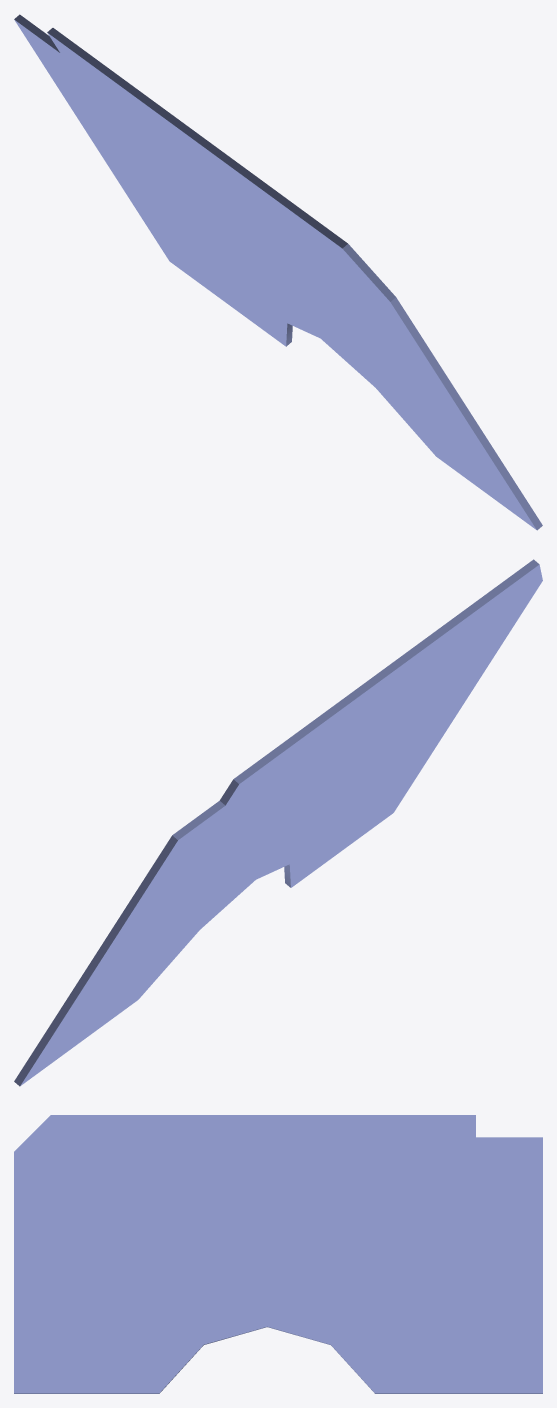
File: Copie de Pale Moulin 4^Copie de ASS Moulin_Horloge Comtoise Verge - Sonnerie.obj
The picture shows the model from 3 angles, top to bottom: view 1: azimuth 30°, elevation 25°; view 2: azimuth 150°, elevation 25°; view 3: azimuth 270°, elevation 25°; orthographic projection. The views are drawn at different scales.
Visible parts, largest first — view 1: Face_1, Face_4, Face_6; view 2: Face_1, Face_4, Face_10; view 3: Face_11.
Boxes of the visible parts, box(x1,y1,x2,y2) form: Face_1: box(14, 19, 536, 529); Face_4: box(47, 28, 347, 248); Face_6: box(390, 297, 542, 530); Face_1: box(20, 564, 542, 1085); Face_4: box(233, 559, 539, 783); Face_10: box(14, 835, 177, 1086); Face_11: box(14, 1115, 542, 1393).
Size of the model in its own units: 0.013 by 0.0219 by 0.0473.
